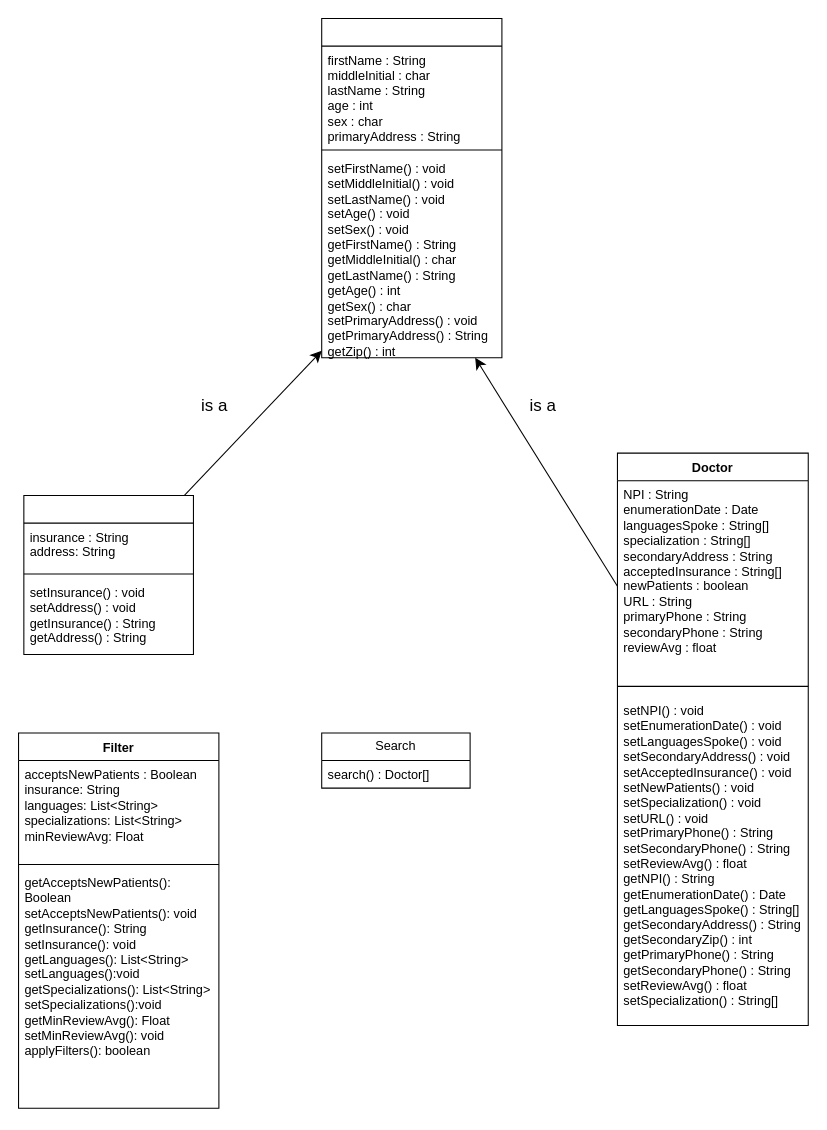
Some shapes in this 827 by 1130 pixel diagram are drawn without their labels. The box of each missing label's shape, as (x1, y1, x2, y2) in pixels:
Patient: (23, 494, 193, 655)
Person: (321, 17, 502, 358)
